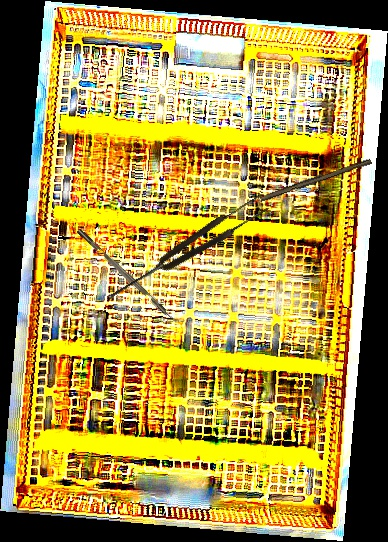Chopper: (76, 223, 186, 329)
Scalpel Handle: (258, 155, 373, 204)
Tissue Forceps: (102, 192, 272, 306)
